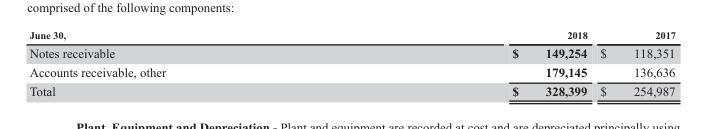table: (28, 29, 674, 98)
table column: (28, 29, 338, 98), (338, 29, 593, 98), (593, 29, 674, 98)
table column header: (28, 29, 674, 43)
table row: (28, 43, 674, 62), (28, 62, 674, 81), (28, 81, 674, 98), (28, 29, 674, 43)
